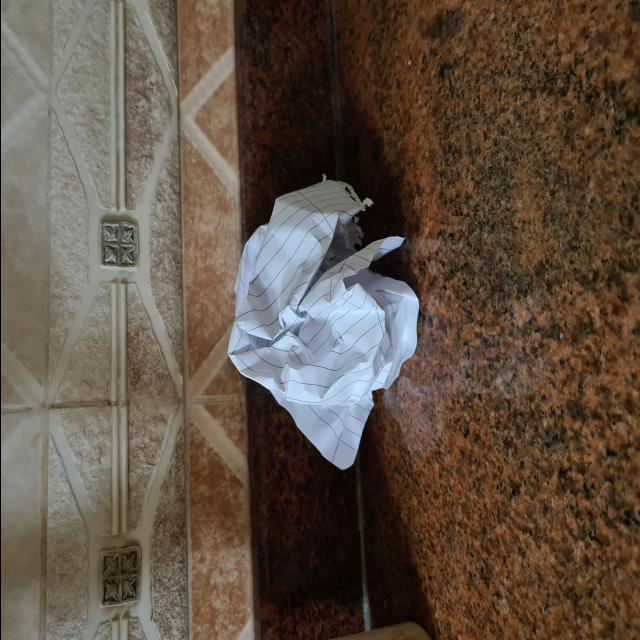kertas: (228, 175, 431, 462)
